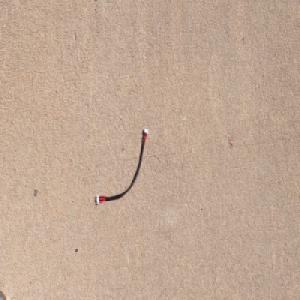Wire: (95, 127, 148, 206)
